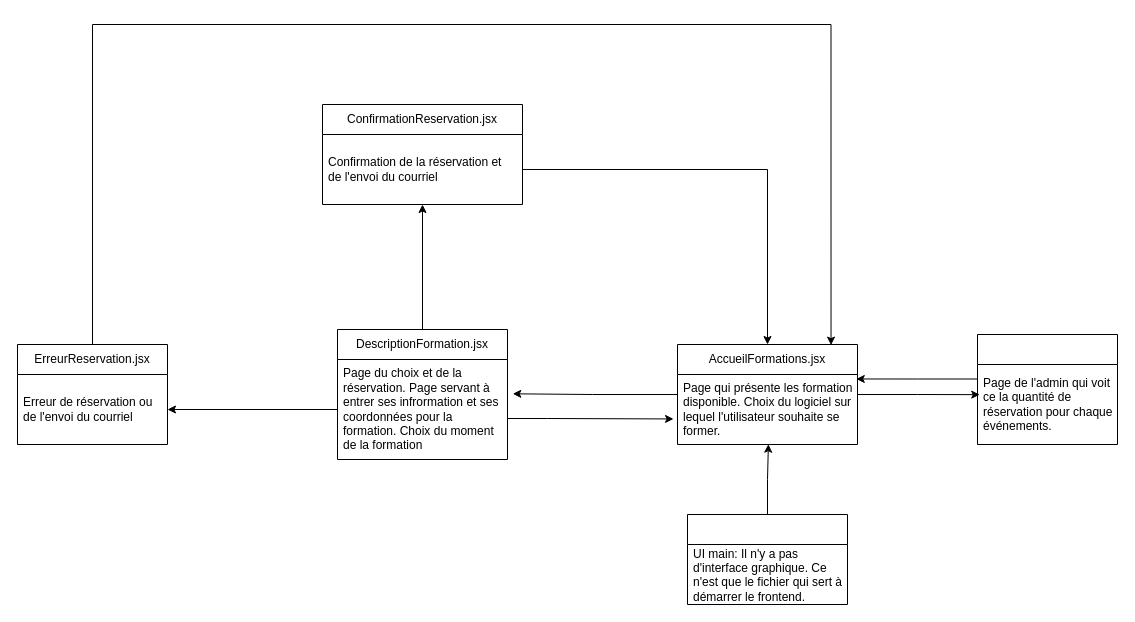
The diagram is 1135 pixels wide and 622 high, and some of its shapes have lost their labels. The box of each missing label's shape, as (x1, y1, x2, y2) in pixels:
App.jsx: (686, 514, 848, 604)
PageAdministrateur.jsx: (976, 334, 1118, 444)
